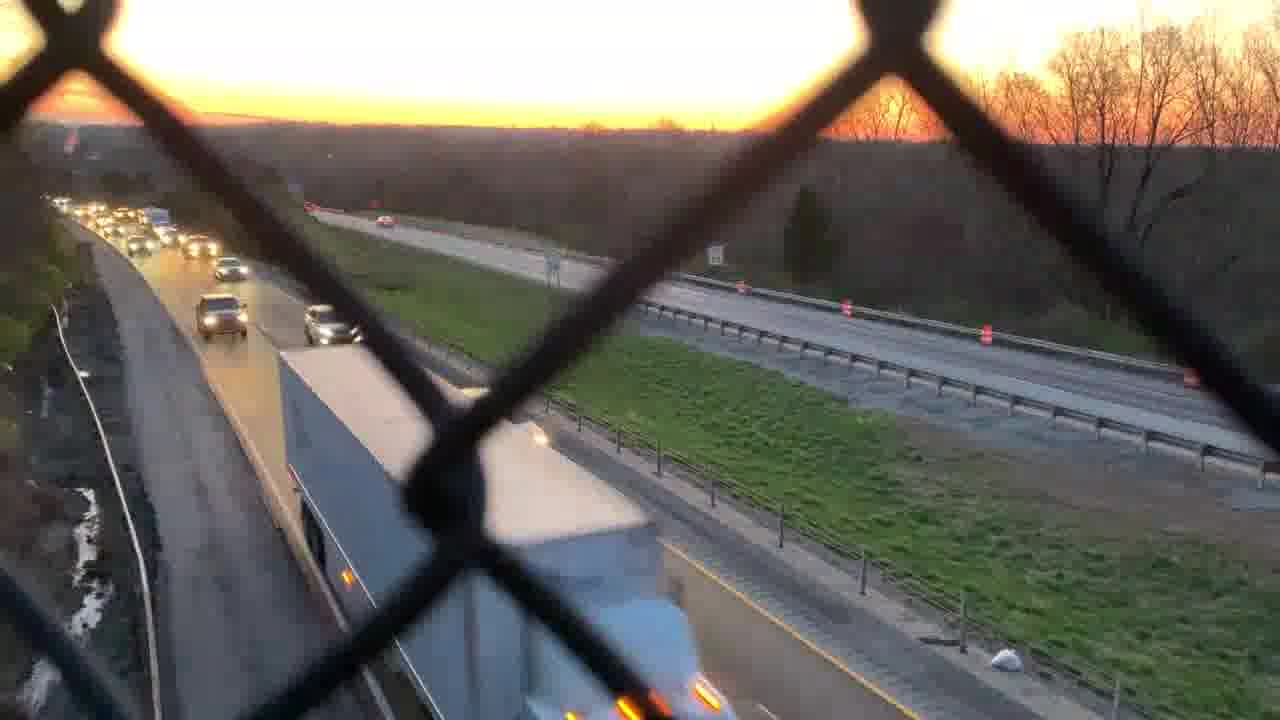heavyTruck: (274, 344, 749, 720)
